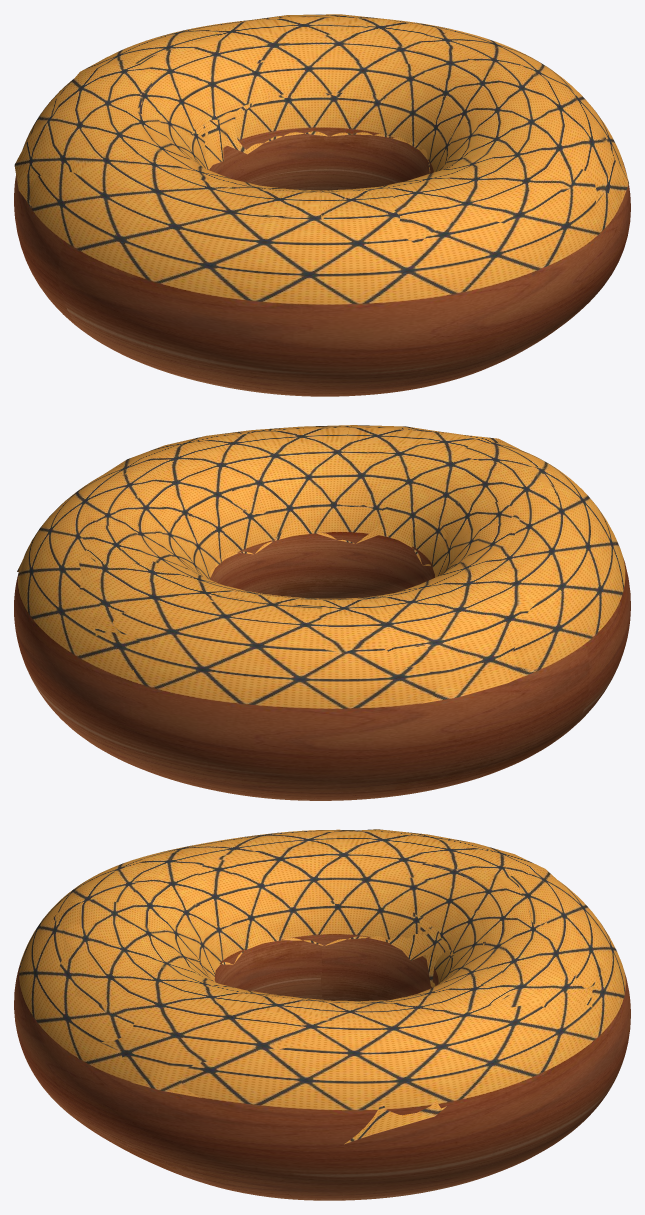
Rendered from donut.gltf.
3 renders of one model, top to bottom at view 1: azimuth 30°, elevation 25°; view 2: azimuth 150°, elevation 25°; view 3: azimuth 270°, elevation 25°, orthographic. The views are drawn at different scales.
Parts seen in each view (by area): view 1: body, top; view 2: body, top; view 3: body, top.
Boxes of the visible parts, x1,y1,x2,y2 form: body: [14, 17, 630, 396]; top: [14, 14, 628, 245]; body: [14, 429, 630, 800]; top: [17, 425, 557, 703]; body: [14, 829, 630, 1200]; top: [51, 829, 620, 1144].
Size of the model in its own units: 0.2987 by 0.1014 by 0.3028.
Materials: 2 (2 with a texture image).
